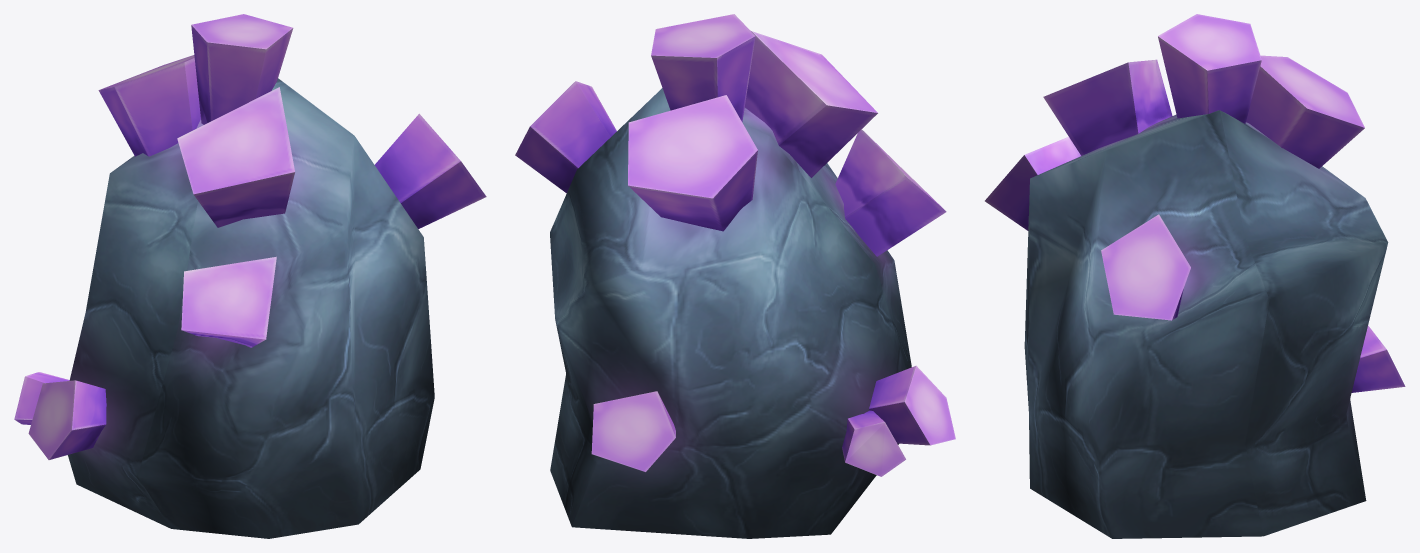
The model's file is ore_big_runic.fbx.
The picture shows the model from 3 angles, left to right: view 1: azimuth 30°, elevation 25°; view 2: azimuth 150°, elevation 25°; view 3: azimuth 270°, elevation 25°; orthographic projection. The views are drawn at different scales.
Visible parts, largest first — view 1: ore_big_runic:Mesh; view 2: ore_big_runic:Mesh; view 3: ore_big_runic:Mesh.
Boxes of the visible parts, bbox=[...] form: ore_big_runic:Mesh: bbox=[14, 14, 486, 538]; ore_big_runic:Mesh: bbox=[515, 14, 955, 538]; ore_big_runic:Mesh: bbox=[985, 14, 1405, 538].
Bounding box in the file's own units: 4.94 × 4.9 × 4.24.
